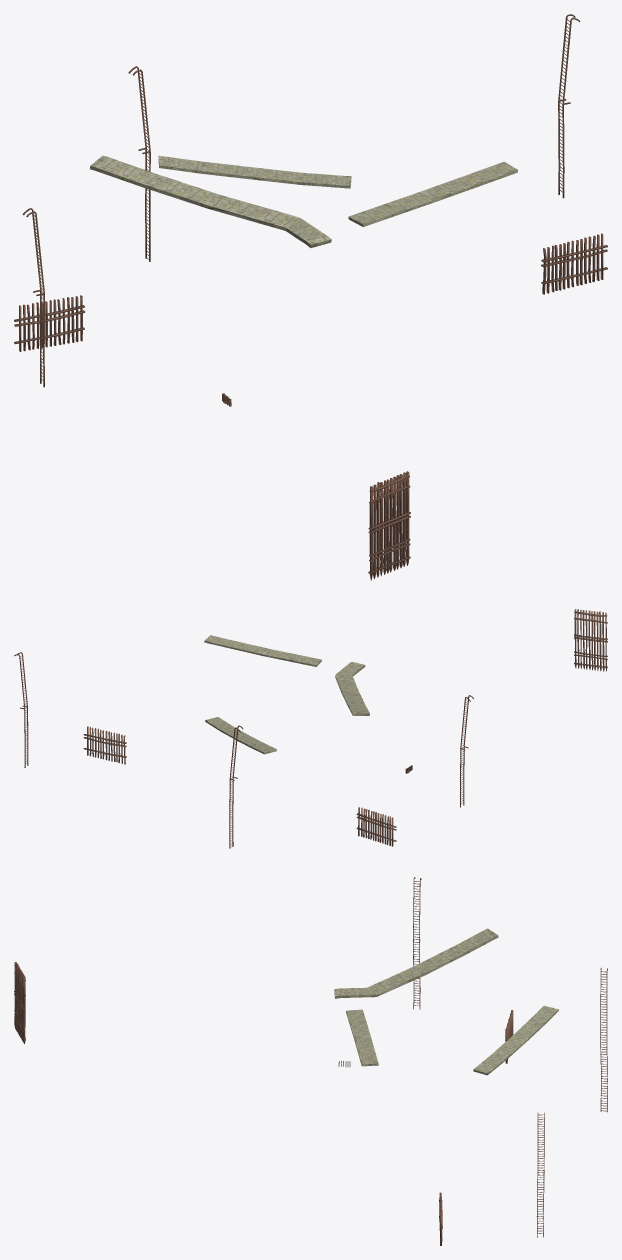
File: SM_Chateaux_Grates_00.fbx
3 renders of one model, top to bottom at view 1: azimuth 30°, elevation 25°; view 2: azimuth 150°, elevation 25°; view 3: azimuth 270°, elevation 25°, orthographic. The views are drawn at different scales.
Visible parts, largest first — view 1: SM_Chateaux_Grates_00, SM_Chateaux_01_wIREMESH_00, SM_Chateaux_01_metal_00; view 2: SM_Chateaux_Grates_00, SM_Chateaux_01_wIREMESH_00, SM_Chateaux_01_metal_00; view 3: SM_Chateaux_Grates_00, SM_Chateaux_01_wIREMESH_00, SM_Chateaux_01_metal_00.
Part boxes in pixels (bbox=[...]): SM_Chateaux_Grates_00: bbox=[14, 14, 607, 580]; SM_Chateaux_01_wIREMESH_00: bbox=[96, 157, 514, 240]; SM_Chateaux_01_metal_00: bbox=[90, 155, 517, 247]; SM_Chateaux_Grates_00: bbox=[14, 609, 607, 848]; SM_Chateaux_01_wIREMESH_00: bbox=[207, 636, 367, 751]; SM_Chateaux_01_metal_00: bbox=[204, 635, 369, 754]; SM_Chateaux_Grates_00: bbox=[14, 877, 607, 1245]; SM_Chateaux_01_wIREMESH_00: bbox=[339, 930, 555, 1072]; SM_Chateaux_01_metal_00: bbox=[334, 928, 558, 1075].
Size of the model in its own units: 6915 by 2325 by 7728.
